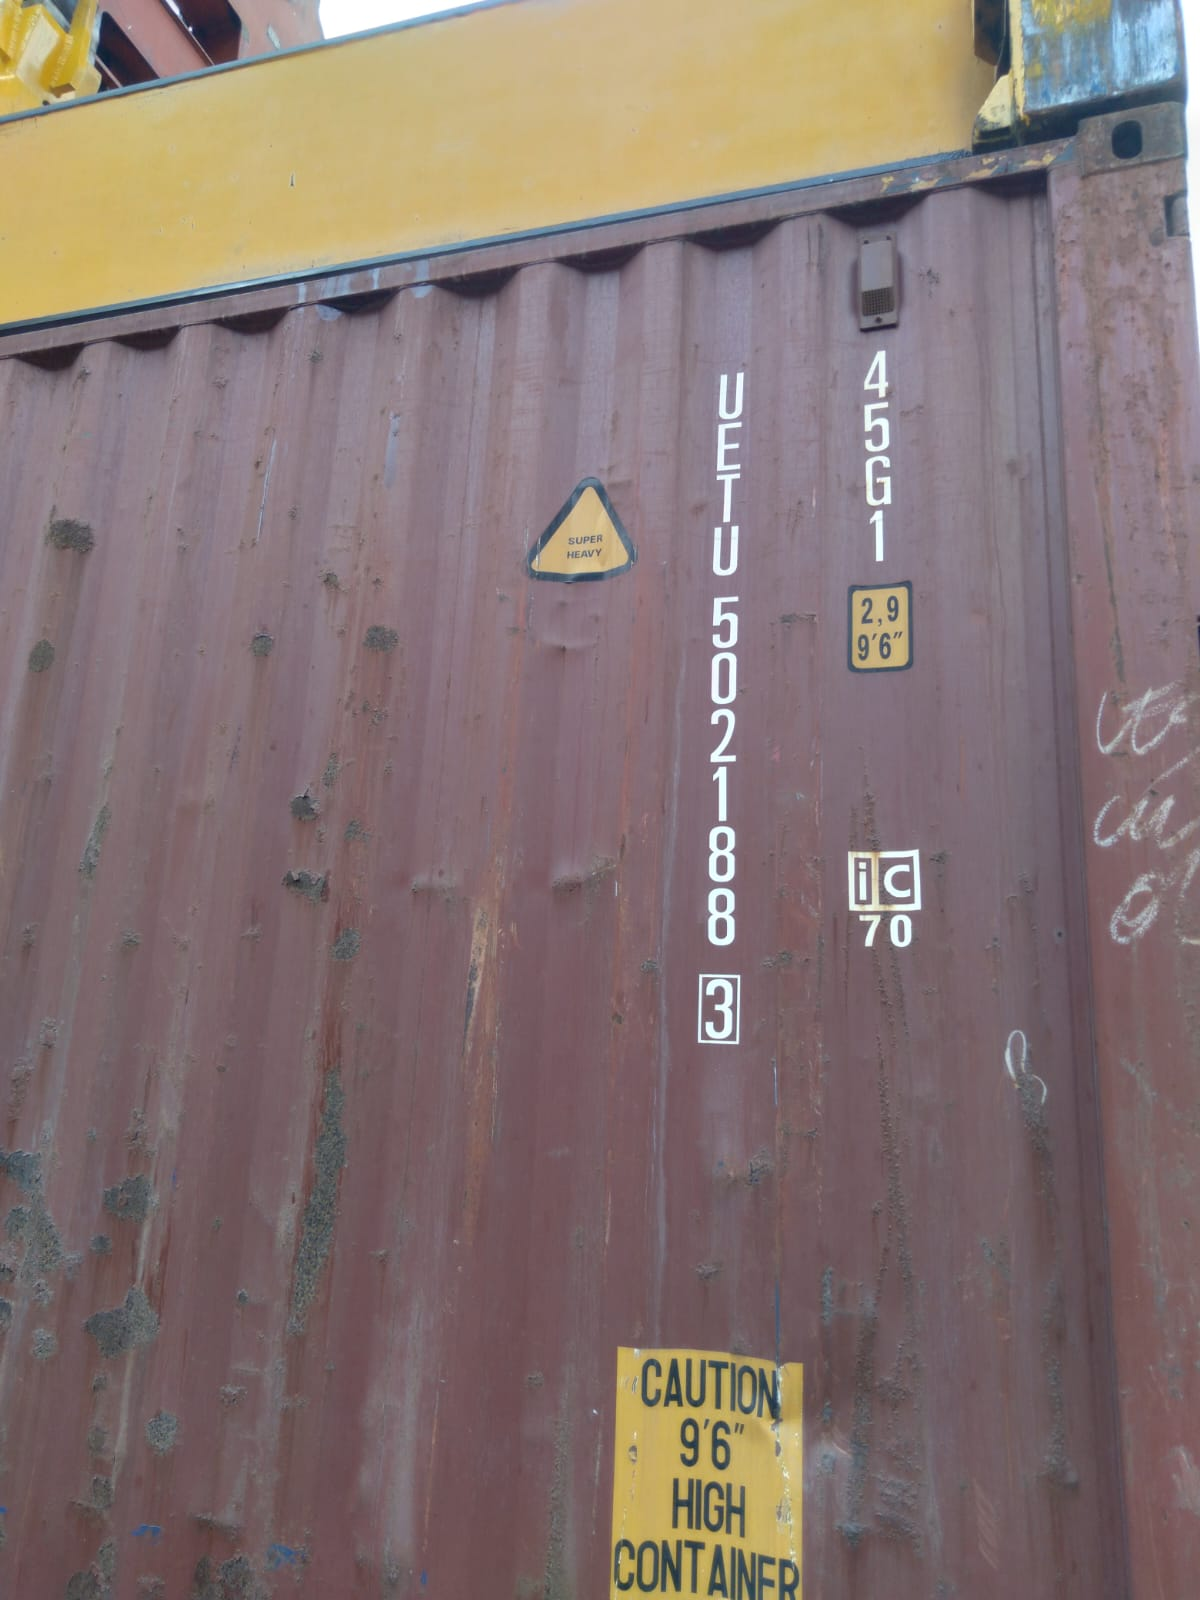dented: (769, 1274, 937, 1521), (171, 1435, 292, 1552), (521, 854, 630, 915)
rust: (255, 769, 429, 954)
